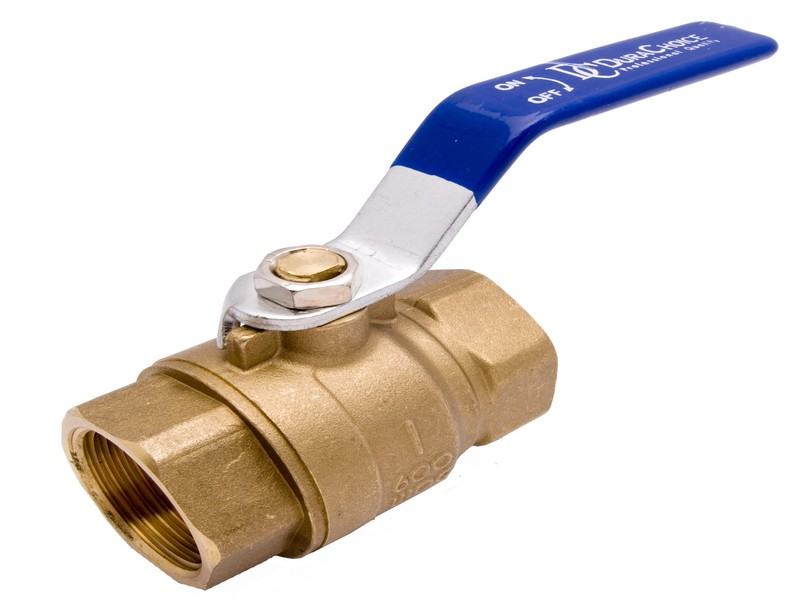valve: (53, 26, 777, 591)
